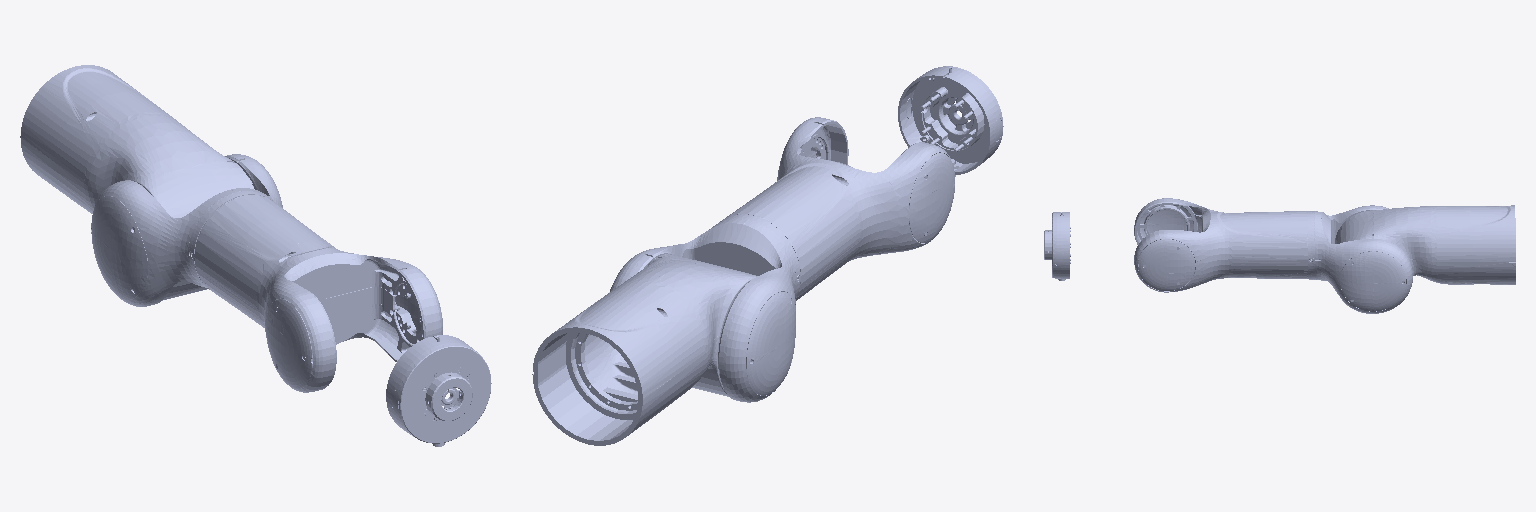
robot.urdf — left_arm:
<?xml version='1.0' encoding='utf-8'?>
<robot name="left_arm">
  <link name="world" />
  <link name="left_base_link">
    <inertial>
      <origin rpy="0 0 0" xyz="-0.00008820 -0.00038610 0.06184223" />
      <mass value="1.52097968" />
      <inertia ixx="0.00236033" ixy="0.00000938" ixz=" 0.00001521" iyy="0.00236054" iyz="0.00002150" izz="0.00235699" />
    </inertial>
    <visual>
      <origin rpy="0 0 0" xyz="0 0 0" />
      <geometry>
        <mesh filename="package://meshes/left_base_link.STL" />
      </geometry>
      <material name="">
        <color rgba="0.792156862745098 0.819607843137255 0.933333333333333 1" />
      </material>
    </visual>
    <collision>
      <origin rpy="0 0 0" xyz="0 0 0" />
      <geometry>
        <mesh filename="package://meshes/left_base_link.STL" />
      </geometry>
    </collision>
  </link>
  <link name="left_j1_Link">
    <inertial>
      <origin rpy="0 0 0" xyz=" 0.00000829 0.00244409 -0.02871310" />
      <mass value="2.47278909" />
      <inertia ixx="0.00811676" ixy="0.00000215" ixz="-0.00000452" iyy="0.00792991" iyz="0.00017343" izz="0.00374035" />
    </inertial>
    <visual>
      <origin rpy="0 0 0" xyz="0 0 0" />
      <geometry>
        <mesh filename="package://meshes/left_j1_Link.STL" />
      </geometry>
      <material name="">
        <color rgba="0.792156862745098 0.819607843137255 0.933333333333333 1" />
      </material>
    </visual>
    <collision>
      <origin rpy="0 0 0" xyz="0 0 0" />
      <geometry>
        <mesh filename="package://meshes/left_j1_Link.STL" />
      </geometry>
    </collision>
  </link>
  <link name="left_j2_Link">
    <inertial>
      <origin rpy="0 0 0" xyz="-0.00001066 0.03722263 -0.01797017" />
      <mass value="1.41019774" />
      <inertia ixx="0.00596565" ixy="0.00000102" ixz="0.00000029" iyy="0.00274196" iyz="0.00096784" izz="0.00467860" />
    </inertial>
    <visual>
      <origin rpy="0 0 0" xyz="0 0 0" />
      <geometry>
        <mesh filename="package://meshes/left_j2_Link.STL" />
      </geometry>
      <material name="">
        <color rgba="0.792156862745098 0.819607843137255 0.933333333333333 1" />
      </material>
    </visual>
    <collision>
      <origin rpy="0 0 0" xyz="0 0 0" />
      <geometry>
        <mesh filename="package://meshes/left_j2_Link.STL" />
      </geometry>
    </collision>
  </link>
  <link name="left_j3_Link">
    <inertial>
      <origin rpy="0 0 0" xyz="0.00883026 0.00178965 -0.06470772" />
      <mass value="3.09939936" />
      <inertia ixx="0.01707605" ixy="0.00005749" ixz=" 0.00183527" iyy="0.01721916" iyz="0.00032649" izz="0.00456819" />
    </inertial>
    <visual>
      <origin rpy="0 0 0" xyz="0 0 0" />
      <geometry>
        <mesh filename="package://meshes/left_j3_Link.STL" />
      </geometry>
      <material name="">
        <color rgba="0.792156862745098 0.819607843137255 0.933333333333333 1" />
      </material>
    </visual>
    <collision>
      <origin rpy="0 0 0" xyz="0 0 0" />
      <geometry>
        <mesh filename="package://meshes/left_j3_Link.STL" />
      </geometry>
    </collision>
  </link>
  <link name="left_j4_Link">
    <inertial>
      <origin rpy="0 0 0" xyz="-0.00971323 0.03818436 -0.00798875" />
      <mass value="0.98368730" />
      <inertia ixx="0.00339258" ixy="-0.00037292" ixz="-0.00007746" iyy="0.00197076" iyz="0.00030620" izz="0.00242521" />
    </inertial>
    <visual>
      <origin rpy="0 0 0" xyz="0 0 0" />
      <geometry>
        <mesh filename="package://meshes/left_j4_Link.STL" />
      </geometry>
      <material name="">
        <color rgba="0.792156862745098 0.819607843137255 0.933333333333333 1" />
      </material>
    </visual>
    <collision>
      <origin rpy="0 0 0" xyz="0 0 0" />
      <geometry>
        <mesh filename="package://meshes/left_j4_Link.STL" />
      </geometry>
    </collision>
  </link>
  <link name="left_j5_Link">
    <inertial>
      <origin rpy="0 0 0" xyz="-0.00002916 0.00651937 -0.09265504" />
      <mass value=" 1.45243657" />
      <inertia ixx="0.00706280" ixy="0.00000071" ixz="-0.00000147" iyy="0.00641601" iyz="0.00095795" izz="0.00205038" />
    </inertial>
    <visual>
      <origin rpy="0 0 0" xyz="0 0 0" />
      <geometry>
        <mesh filename="package://meshes/left_j5_Link.STL" />
      </geometry>
      <material name="">
        <color rgba="0.792156862745098 0.819607843137255 0.933333333333333 1" />
      </material>
    </visual>
    <collision>
      <origin rpy="0 0 0" xyz="0 0 0" />
      <geometry>
        <mesh filename="package://meshes/left_j5_Link.STL" />
      </geometry>
    </collision>
  </link>
  <link name="left_j6_Link">
    <inertial>
      <origin rpy="0 0 0" xyz=" -0.00085791 -0.04359160 0.00242243" />
      <mass value="1.79923073" />
      <inertia ixx="0.00549869" ixy="-0.00000933" ixz="0.00000896" iyy="0.00194083" iyz="0.00017593" izz="0.00523894" />
    </inertial>
    <visual>
      <origin rpy="0 0 0" xyz="0 0 0" />
      <geometry>
        <mesh filename="package://meshes/left_j6_Link.STL" />
      </geometry>
      <material name="">
        <color rgba="0.792156862745098 0.819607843137255 0.933333333333333 1" />
      </material>
    </visual>
    <collision>
      <origin rpy="0 0 0" xyz="0 0 0" />
      <geometry>
        <mesh filename="package://meshes/left_j6_Link.STL" />
      </geometry>
    </collision>
  </link>
  <link name="left_j7_Link">
    <inertial>
      <origin rpy="0 0 0" xyz="0.00004614 -0.00011426 -0.02786989" />
      <mass value="0.35714747" />
      <inertia ixx="0.00018241" ixy="0.00000145" ixz="-0.00000015" iyy="0.00018443" iyz=" -0.00000032" izz="0.00021747" />
    </inertial>
    <visual>
      <origin rpy="0 0 0" xyz="0 0 0" />
      <geometry>
        <mesh filename="package://meshes/left_j7_Link.STL" />
      </geometry>
      <material name="">
        <color rgba="0.792156862745098 0.819607843137255 0.933333333333333 1" />
      </material>
    </visual>
    <collision>
      <origin rpy="0 0 0" xyz="0 0 0" />
      <geometry>
        <mesh filename="package://meshes/left_j7_Link.STL" />
      </geometry>
    </collision>
  </link>
  <joint name="left_j1_joint" type="revolute">
    <origin rpy="0 0 0" xyz="0 0 0.195" />
    <parent link="left_base_link" />
    <child link="left_j1_Link" />
    <axis xyz="0 0 1" />
    <limit effort="0" lower="-3.14" upper="3.14" velocity="0" />
  </joint>
  <joint name="left_j2_joint" type="revolute">
    <origin rpy="1.5708 0 0" xyz="0 0 0" />
    <parent link="left_j1_Link" />
    <child link="left_j2_Link" />
    <axis xyz="0 0 1" />
    <limit effort="0" lower="-2.093" upper="2.093" velocity="0" />
  </joint>
  <joint name="left_j3_joint" type="revolute">
    <origin rpy="-1.5708 0 0" xyz="0 0.2725 0" />
    <parent link="left_j2_Link" />
    <child link="left_j3_Link" />
    <axis xyz="0 0 1" />
    <limit effort="0" lower="-3.14" upper="3.14" velocity="0" />
  </joint>
  <joint name="left_j4_joint" type="revolute">
    <origin rpy="1.5708 0 0" xyz="0.02 0 0" />
    <parent link="left_j3_Link" />
    <child link="left_j4_Link" />
    <axis xyz="0 0 1" />
    <limit effort="0" lower="-2.5294" upper="1.046" velocity="0" />
  </joint>
  <joint name="left_j5_joint" type="revolute">
    <origin rpy="-1.5708 0 0" xyz="-0.02 0.2596 0" />
    <parent link="left_j4_Link" />
    <child link="left_j5_Link" />
    <axis xyz="0 0 1" />
    <limit effort="0" lower="-3.14" upper="3.14" velocity="0" />
  </joint>
  <joint name="left_j6_joint" type="revolute">
    <origin rpy="-1.5708 0 0" xyz="0 0 0" />
    <parent link="left_j5_Link" />
    <child link="left_j6_Link" />
    <axis xyz="0 0 1" />
    <limit effort="0" lower="-1.74" upper="1.74" velocity="0" />
  </joint>
  <joint name="left_j7_joint" type="revolute">
    <origin rpy="1.5708 0 0" xyz="0 -0.1539 0" />
    <parent link="left_j6_Link" />
    <child link="left_j7_Link" />
    <axis xyz="0 0 1" />
    <limit effort="0" lower="-3.14" upper="3.14" velocity="0" />
  </joint>
  <joint name="arm_left_base" type="fixed">
    <origin rpy="1.57 1.57 0" xyz="0.0 0 0" />
    <parent link="world" />
    <child link="left_base_link" />
  </joint>
</robot>

--- What the picture shows (computed from the rendered views, not written in the file) ---
Views: 3 orthographic renders of the robot side by side, from view 1: azimuth 30°, elevation 25°; view 2: azimuth 150°, elevation 25°; view 3: azimuth 270°, elevation 25°.
Robot: left_arm — 9 links, 8 joints (7 revolute, 1 fixed); root link world; default pose: all joints at 0.
Visible links, largest first — view 1: left_j5_Link, left_j3_Link, left_j4_Link, left_j7_Link; view 2: left_j3_Link, left_j5_Link, left_j4_Link, left_j7_Link; view 3: left_j5_Link, left_j3_Link, left_j4_Link, left_j7_Link.
Link boxes in pixels (x1,y1,x2,y2): left_j5_Link: (194, 195, 442, 392); left_j3_Link: (20, 65, 254, 300); left_j4_Link: (91, 154, 282, 306); left_j7_Link: (386, 335, 491, 446); left_j3_Link: (532, 254, 757, 445); left_j5_Link: (726, 117, 954, 300); left_j4_Link: (609, 214, 800, 402); left_j7_Link: (898, 66, 1003, 176); left_j5_Link: (1134, 198, 1307, 292); left_j3_Link: (1335, 205, 1515, 284); left_j4_Link: (1308, 205, 1412, 313); left_j7_Link: (1044, 212, 1070, 280).
Size in the robot's own frame: 0.1422 by 0.5926 by 0.1203 metres.
4 mesh visuals loaded from 8 distinct referenced files (4 binary STL); not drawn: 4 (reference not matched to a file when rendering).
